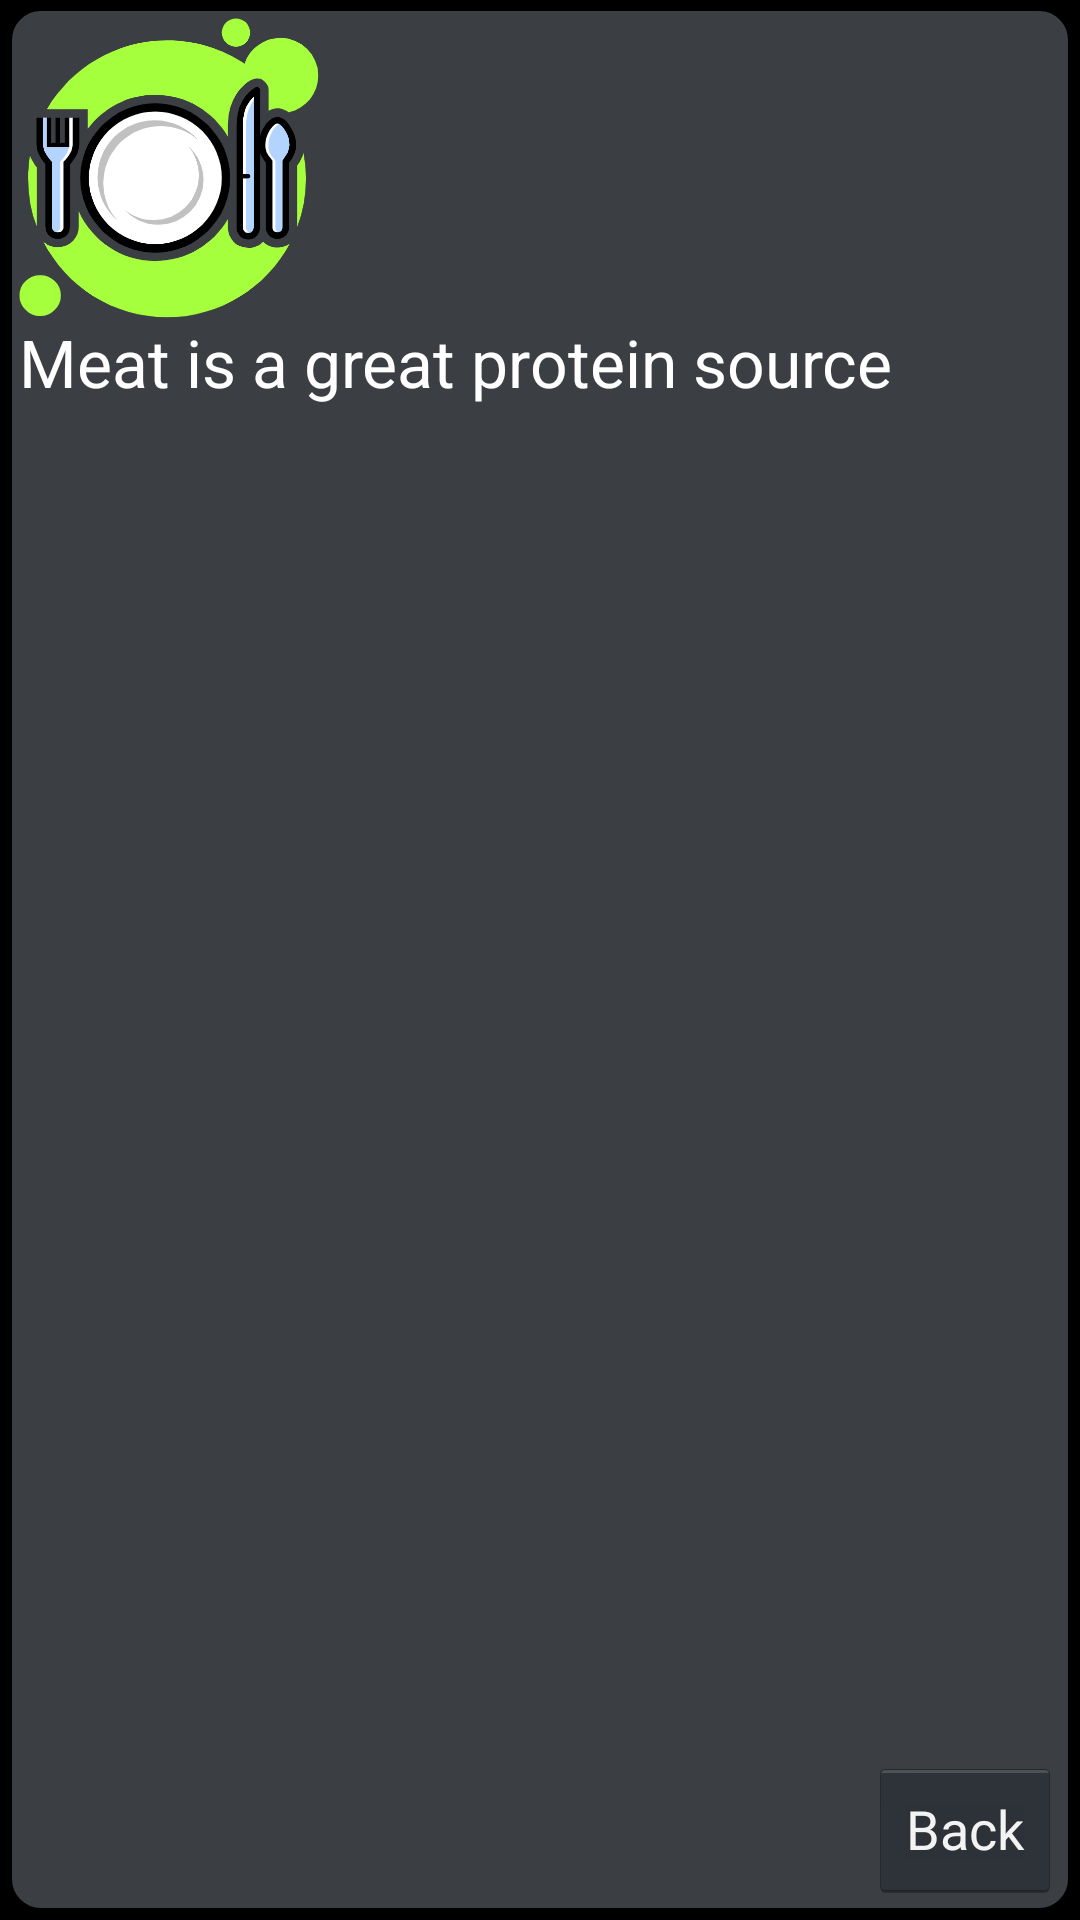

Icon click points for this 1080px x 1920px phone screenshot, format (x,y):
plate: (169,168)
